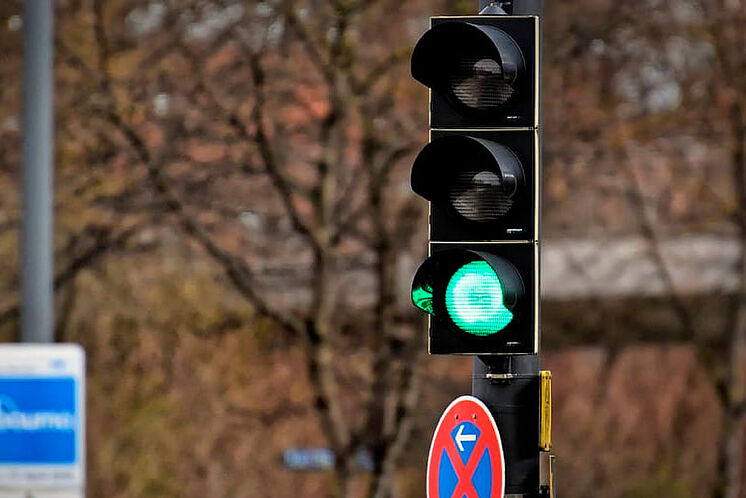Cartel: (416, 393, 521, 498)
Poste: (471, 352, 545, 498)
Semaforo: (411, 15, 540, 358)
